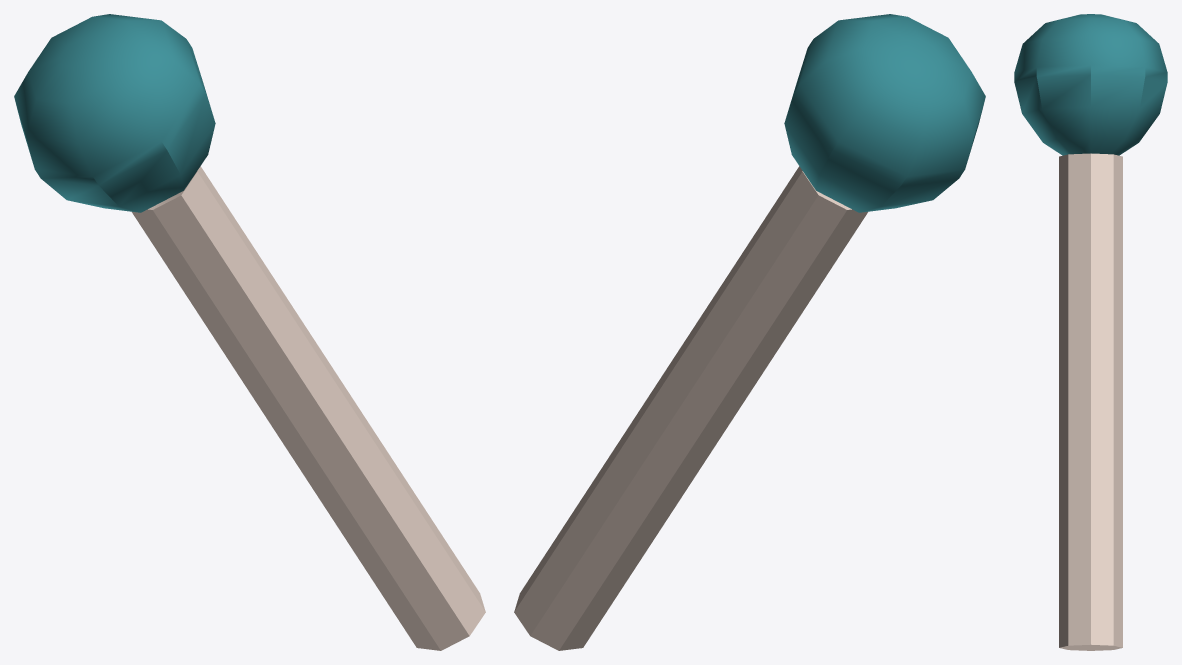
File: Green_YG.fbx
3 renders of one model, left to right at view 1: azimuth 30°, elevation 25°; view 2: azimuth 150°, elevation 25°; view 3: azimuth 270°, elevation 25°, orthographic. The views are drawn at different scales.
Visible parts, largest first — view 1: 柱体.002; view 2: 柱体.002; view 3: 柱体.002.
Part boxes in pixels (x1,y1,x2,y2): 柱体.002: (14,14,485,650); 柱体.002: (514,14,985,650); 柱体.002: (1014,14,1167,650).
Size of the model in its own units: 62.69 by 92.09 by 24.32.
